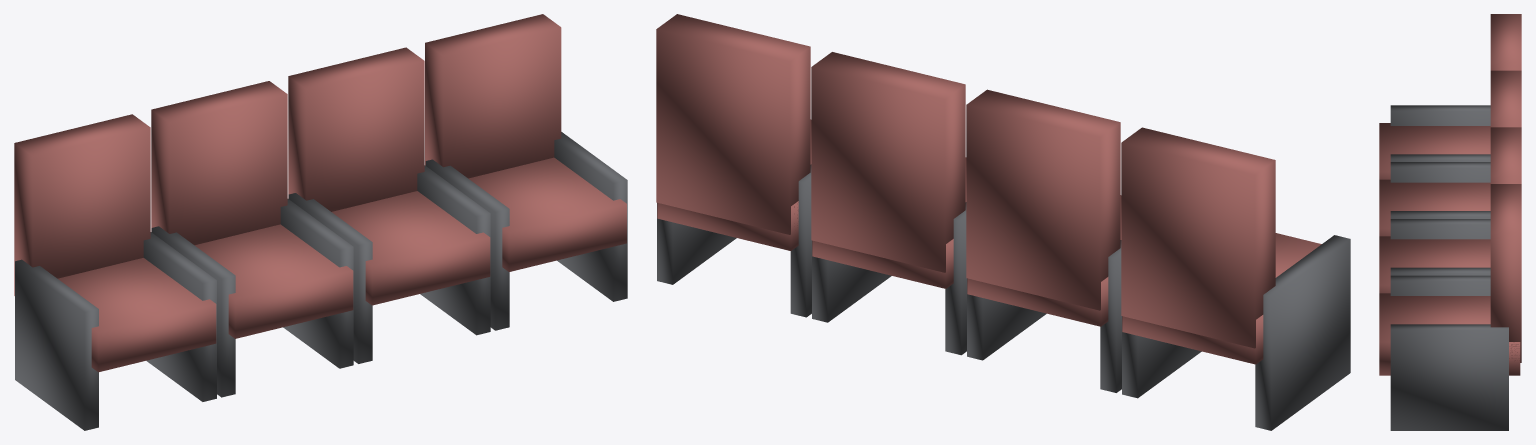
The model's file is theater_seat_row__deep.glb.
3 renders of one model, left to right at view 1: azimuth 30°, elevation 25°; view 2: azimuth 150°, elevation 25°; view 3: azimuth 270°, elevation 25°, orthographic. The views are drawn at different scales.
Visible parts, largest first — view 1: world; view 2: world; view 3: world.
Part boxes in pixels (x1,y1,x2,y2): world: [14, 14, 627, 430]; world: [656, 14, 1350, 430]; world: [1379, 14, 1521, 430].
Bounding box in the file's own units: 2.3 × 0.93 × 0.6161.
